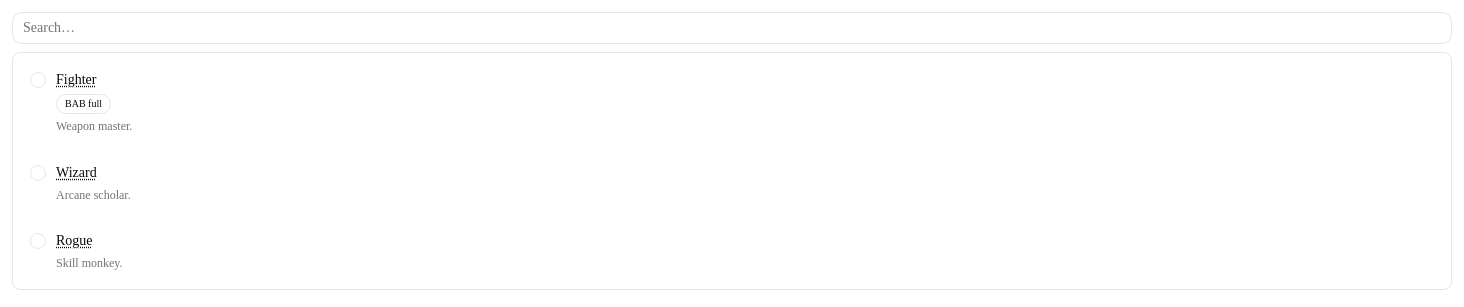
Test case: OptionPicker › filters by label and keywords when searched
Type "arcane" into the field at [732, 28], box [12,12,1452,44]
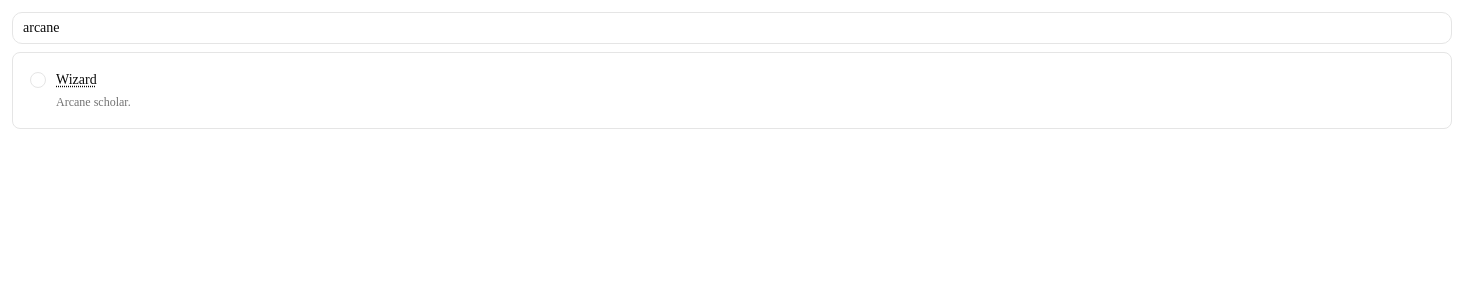
Check: the text "Wizard" is shown, box [56,72,97,87]
Check: the radio button "Fighter" is gone
